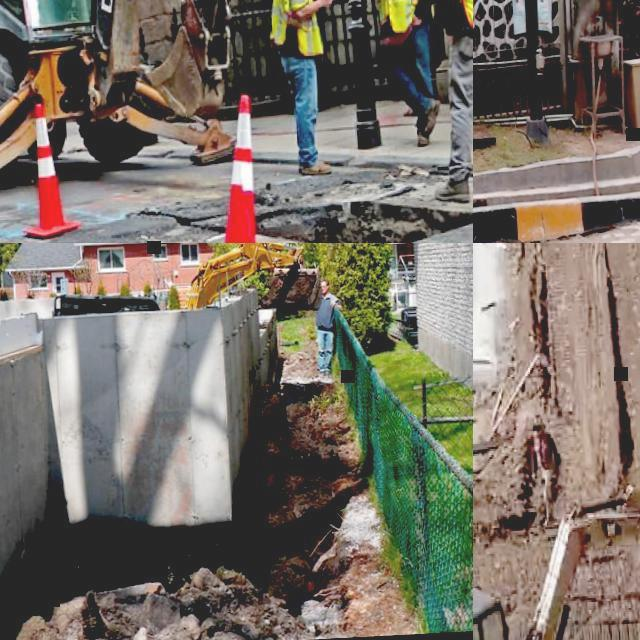machinery: (0, 0, 253, 211), (473, 455, 640, 640), (181, 243, 326, 320)
no_helmet: (321, 278, 331, 286)
no_mask: (322, 288, 331, 294)
no_vest: (314, 294, 334, 329)
person: (352, 0, 446, 151), (264, 0, 342, 179), (418, 0, 473, 202), (531, 416, 564, 526), (312, 277, 347, 373)
safety_cone: (198, 95, 277, 243), (21, 105, 83, 242)
vehicle: (52, 290, 162, 320)
vest: (268, 0, 325, 57), (376, 0, 424, 34)
